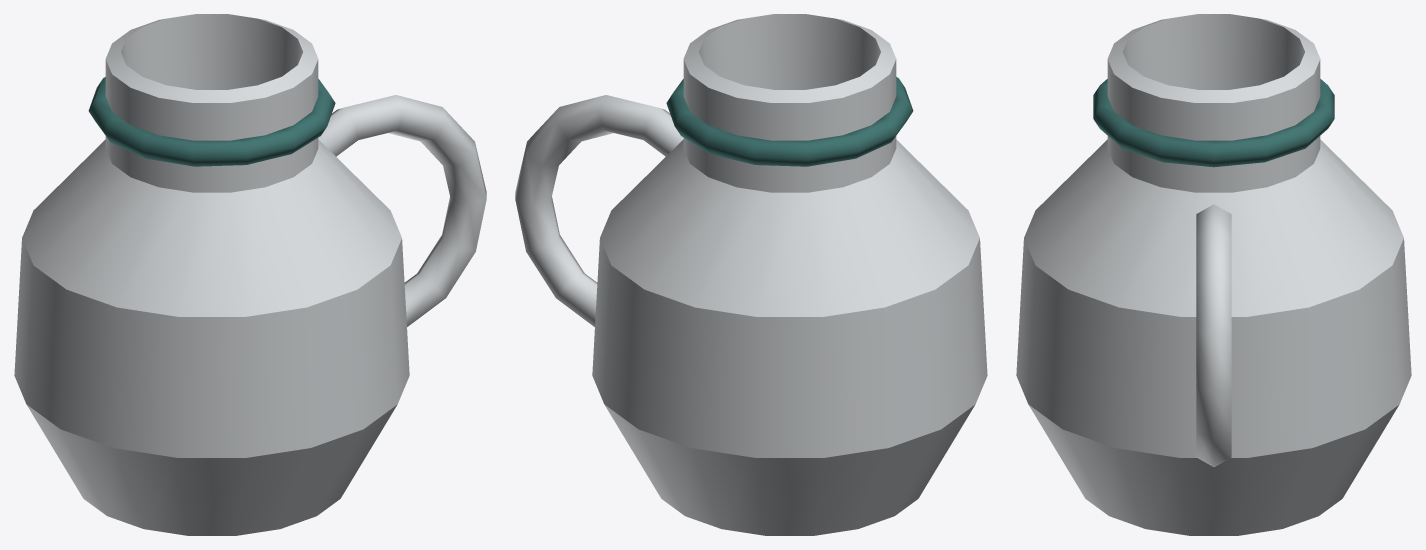
Rendered from alpine-snow-village-glazed-alpine-jug-05fe1bfd__19845.glb.
3 renders of one model, left to right at view 1: azimuth 30°, elevation 25°; view 2: azimuth 150°, elevation 25°; view 3: azimuth 270°, elevation 25°, orthographic.
Visible parts, largest first — view 1: glazed-alpine-jug-snow, glazed-alpine-jug-pine; view 2: glazed-alpine-jug-snow, glazed-alpine-jug-pine; view 3: glazed-alpine-jug-snow, glazed-alpine-jug-pine.
Part boxes in pixels (bbox=[...]): glazed-alpine-jug-snow: bbox=[14, 14, 486, 535]; glazed-alpine-jug-pine: bbox=[88, 77, 335, 166]; glazed-alpine-jug-snow: bbox=[515, 14, 987, 535]; glazed-alpine-jug-pine: bbox=[666, 77, 913, 166]; glazed-alpine-jug-snow: bbox=[1016, 14, 1411, 535]; glazed-alpine-jug-pine: bbox=[1093, 79, 1334, 167].
Bounding box in the file's own units: 0.6731 × 0.62 × 0.52.
